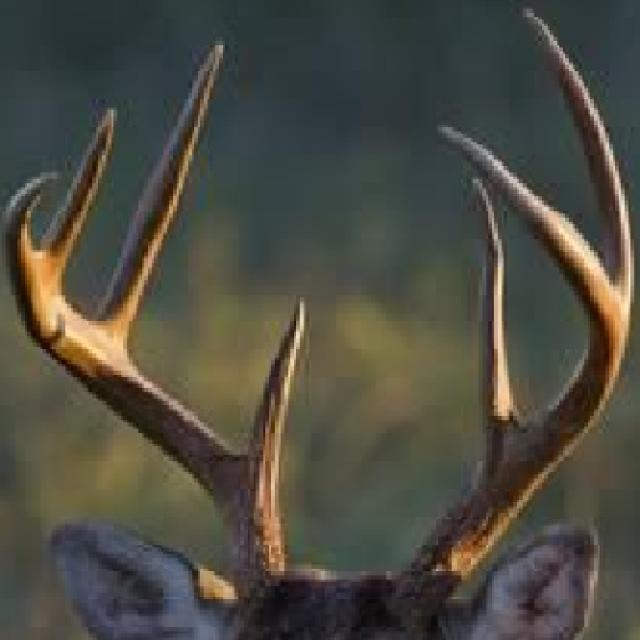L-F: (391, 123, 628, 627)
L-G1: (471, 175, 527, 473)
L-G2: (520, 5, 635, 319)
R-F: (1, 170, 287, 591)
R-G1: (242, 296, 309, 483)
R-G2: (97, 42, 227, 355)
R-G3: (39, 107, 115, 287)
